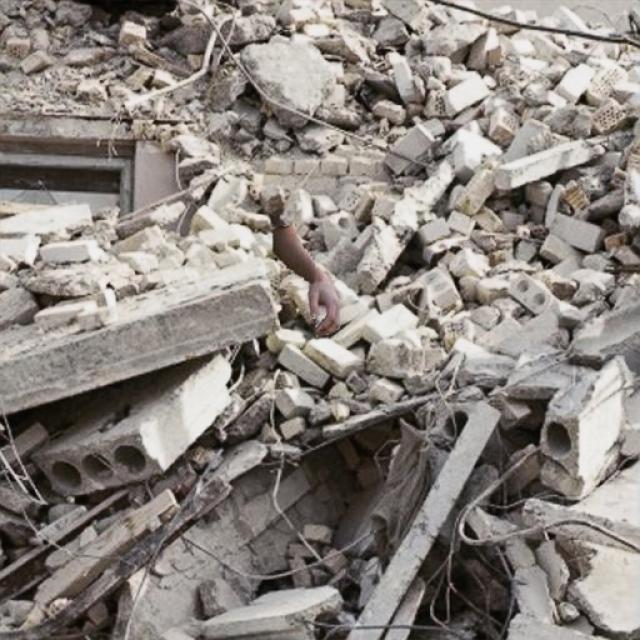Person in Rubble: (272, 224, 338, 336)
